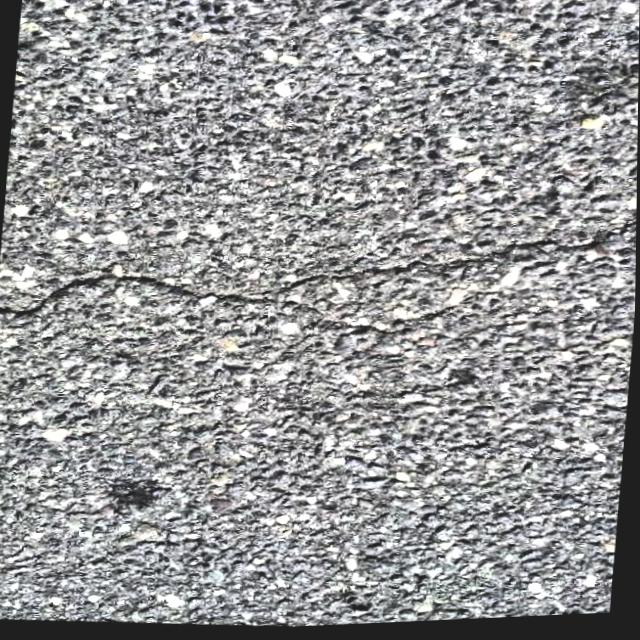cracks: (0, 271, 198, 314), (436, 233, 603, 269), (358, 259, 424, 273), (281, 273, 338, 288), (606, 217, 636, 240)
